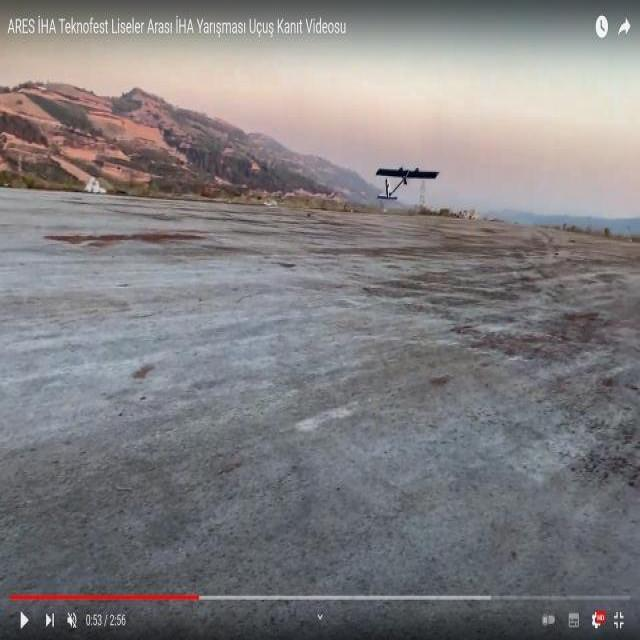UAV: (360, 149, 444, 205)
